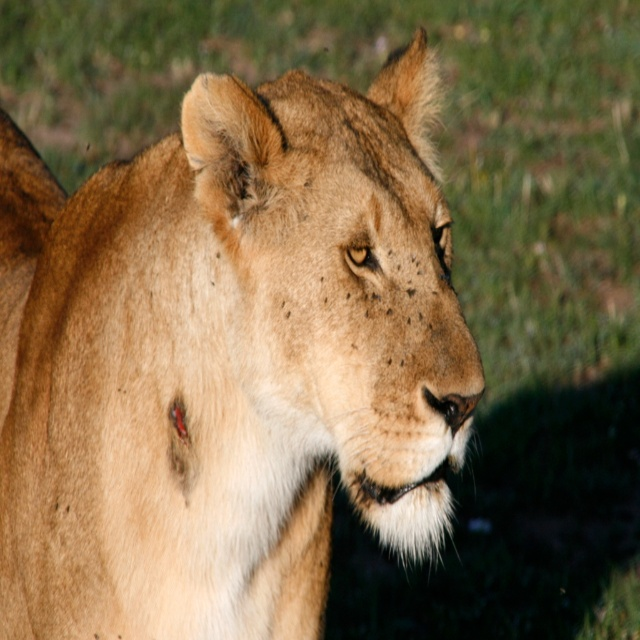Lion: (0, 25, 485, 640)
